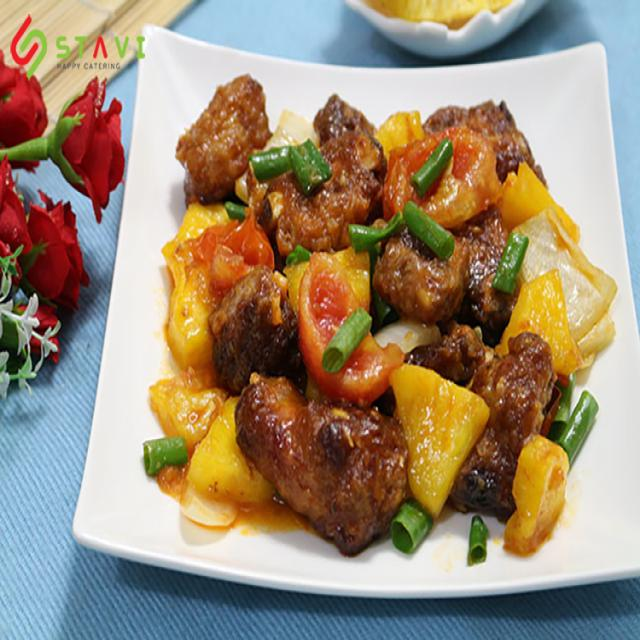suon xao: (144, 74, 615, 554)
